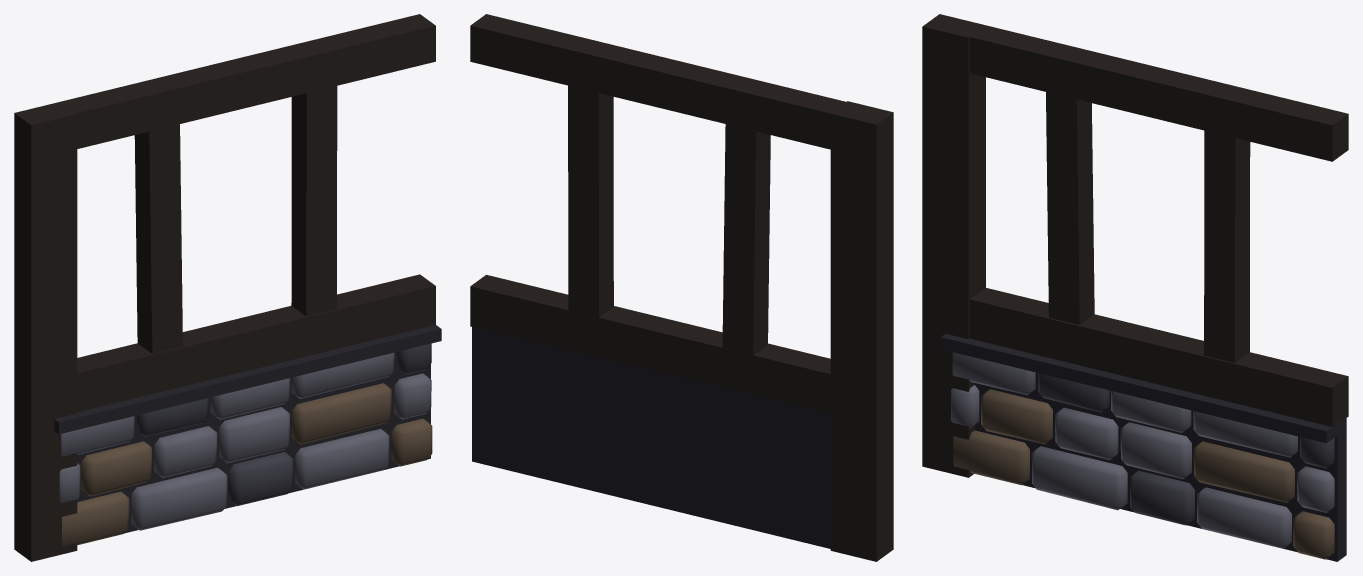
File: kit_timber_low_d.glb
3 views of the same model, side by side, from view 1: azimuth 30°, elevation 25°; view 2: azimuth 150°, elevation 25°; view 3: azimuth 330°, elevation 25° (orthographic).
Parts seen in each view (by area): view 1: kit_timber_low_d; view 2: kit_timber_low_d; view 3: kit_timber_low_d.
Part boxes in pixels (box(x1,y1,x2,y2)): kit_timber_low_d: box(14, 14, 441, 561); kit_timber_low_d: box(470, 14, 893, 561); kit_timber_low_d: box(922, 14, 1348, 561).
Bounding box in the file's own units: 1.06 × 1.09 × 0.098.
